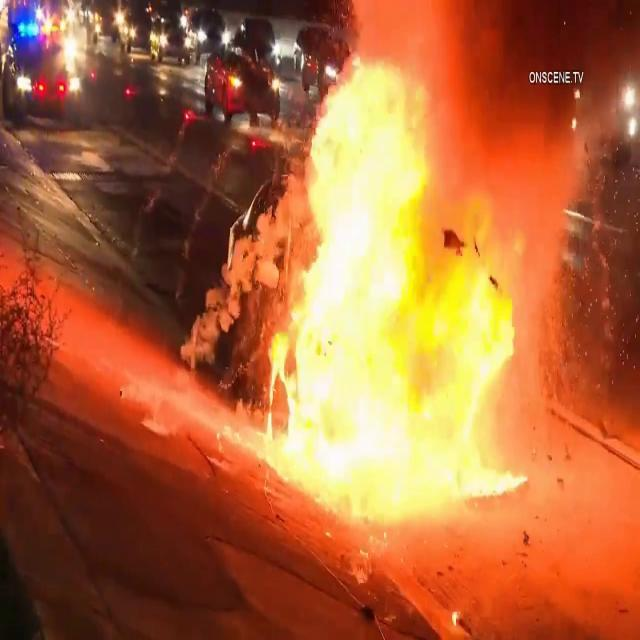Fire: (264, 71, 522, 523)
Smoke: (416, 0, 640, 313)
